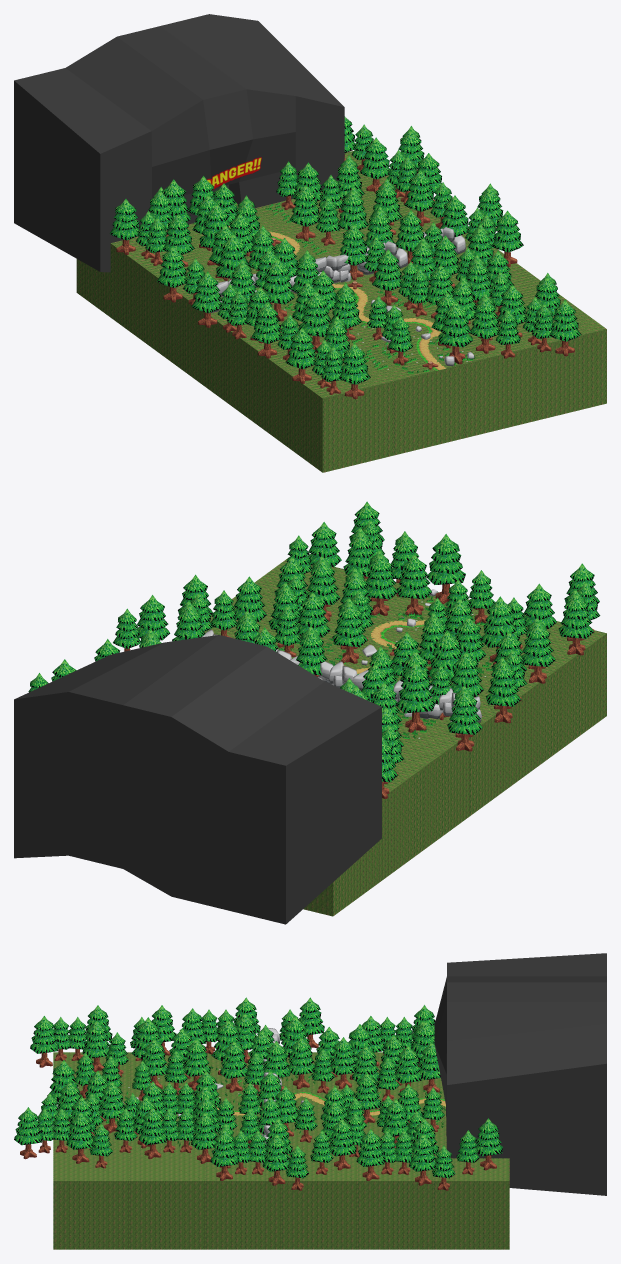
Rendered from level_new2.glb.
The picture shows the model from 3 angles, top to bottom: view 1: azimuth 30°, elevation 25°; view 2: azimuth 150°, elevation 25°; view 3: azimuth 270°, elevation 25°; orthographic projection. The views are drawn at different scales.
Parts seen in each view (by area): view 1: Cube.002, Cube, Cube.001, Plane, tree_02, tree_02_main_mat_0.002, tree_02_main_mat_0.001, tree_01_main_mat_0.033, tree_01_main_mat_0.049, tree_01_main_mat_0.046, tree_01_main_mat_0.050, tree_01_main_mat_0.055 (+35 smaller); view 2: Cube.002, Cube, Cube.001, tree_02_main_mat_0.003, tree_02, tree_01_main_mat_0.055, tree_01_main_mat_0.004, tree_01_main_mat_0.050, tree_01_main_mat_0.054, tree_01, tree_01_main_mat_0.051, tree_01_main_mat_0.002 (+24 smaller); view 3: Cube.002, Cube, Cube.001, tree_01_main_mat_0.037, tree_01_main_mat_0.041, tree_01_main_mat_0.029, tree_01_main_mat_0.033, tree_01_main_mat_0.049, tree_01_main_mat_0.043, tree_01_main_mat_0.014, tree_01_main_mat_0.039, tree_01_main_mat_0.017 (+79 smaller).
Boxes of the visible parts, box(x1,y1,x2,y2) form: Cube.002: box(14, 14, 344, 272); Cube: box(76, 243, 606, 472); Cube.001: box(111, 151, 606, 398); Plane: box(228, 223, 446, 370); tree_02: box(438, 301, 472, 364); tree_02_main_mat_0.002: box(262, 258, 294, 321); tree_02_main_mat_0.001: box(299, 290, 331, 352); tree_01_main_mat_0.033: box(549, 300, 581, 356); tree_01_main_mat_0.049: box(338, 343, 370, 399); tree_01_main_mat_0.046: box(109, 199, 139, 254); tree_01_main_mat_0.050: box(285, 327, 315, 383); tree_01_main_mat_0.055: box(156, 246, 186, 302); Cube.002: box(14, 635, 381, 924); Cube: box(303, 633, 606, 916); Cube.001: box(204, 557, 606, 792); tree_02_main_mat_0.003: box(396, 662, 435, 732); tree_02: box(426, 534, 465, 603); tree_01_main_mat_0.055: box(447, 689, 482, 751); tree_01_main_mat_0.004: box(332, 602, 367, 663); tree_01_main_mat_0.050: box(558, 593, 593, 655); tree_01_main_mat_0.054: box(485, 661, 521, 723); tree_01: box(396, 554, 431, 615); tree_01_main_mat_0.051: box(521, 622, 555, 683); tree_01_main_mat_0.002: box(366, 554, 397, 615); Cube.002: box(434, 953, 606, 1195); Cube: box(53, 1181, 509, 1249); Cube.001: box(53, 1052, 509, 1180); tree_01_main_mat_0.037: box(210, 1129, 238, 1180); tree_01_main_mat_0.041: box(356, 1129, 385, 1180); tree_01_main_mat_0.029: box(138, 1107, 167, 1159); tree_01_main_mat_0.033: box(14, 1107, 42, 1159); tree_01_main_mat_0.049: box(30, 1016, 58, 1067); tree_01_main_mat_0.043: box(475, 1118, 502, 1170); tree_01_main_mat_0.014: box(220, 1040, 247, 1092); tree_01_main_mat_0.039: box(329, 1118, 356, 1170); tree_01_main_mat_0.017: box(288, 1037, 315, 1088).
Bounding box in the file's own units: 64.91 × 36.13 × 107.
5 materials, 4 textured.
